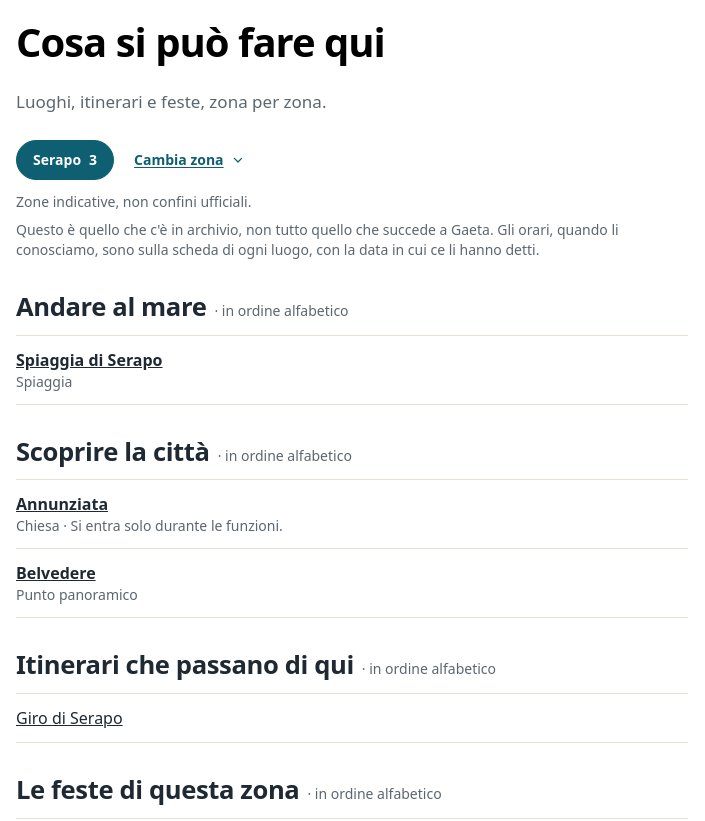
Test: CosaFareView on a phone (review PR-4, M-07) › puts the other zones away once one is chosen, and «Cambia zona» brings them back
Click the button "Cambia zona" at (190, 160), box [122,140,258,180]
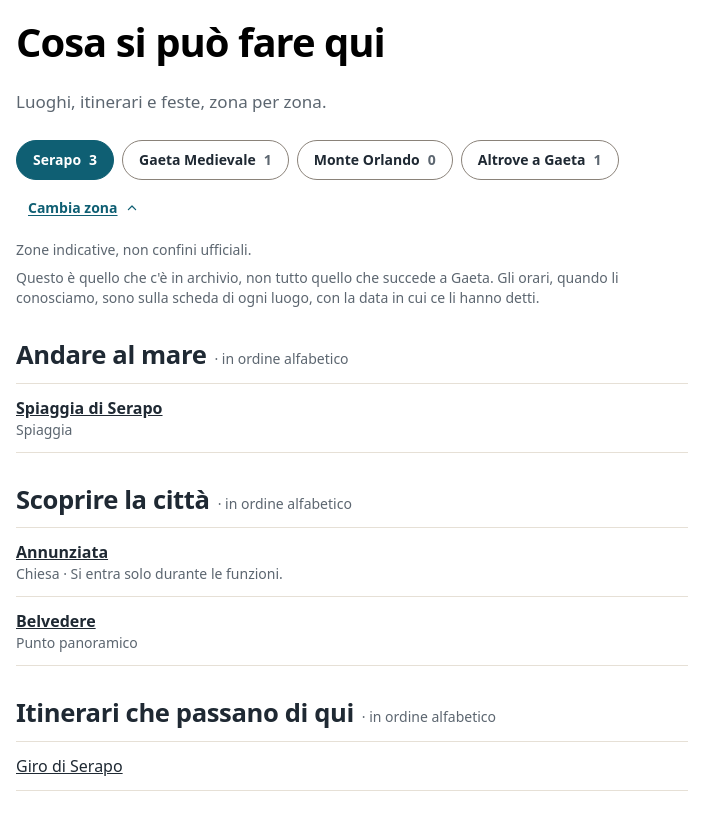
Expected: the button "Cambia zona" is expanded, [16,188,152,228]
